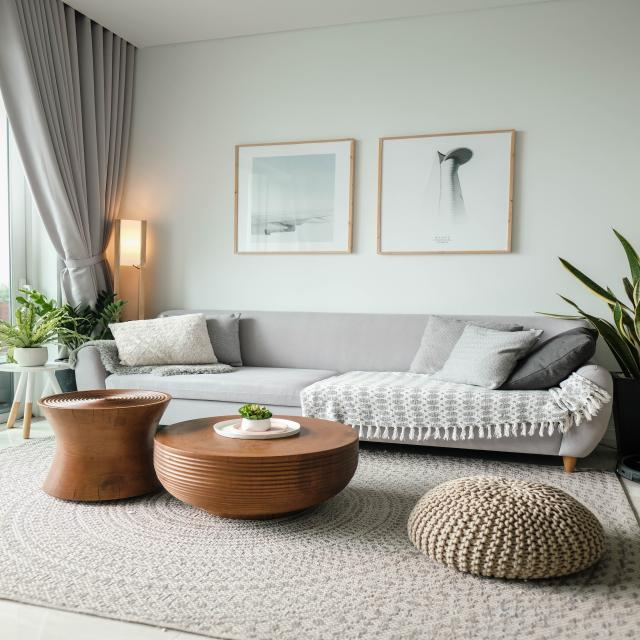floor: (575, 443, 640, 525), (358, 441, 565, 466), (0, 416, 54, 450), (601, 409, 616, 448)
wall: (117, 0, 640, 334), (377, 129, 515, 254), (233, 139, 356, 254)
